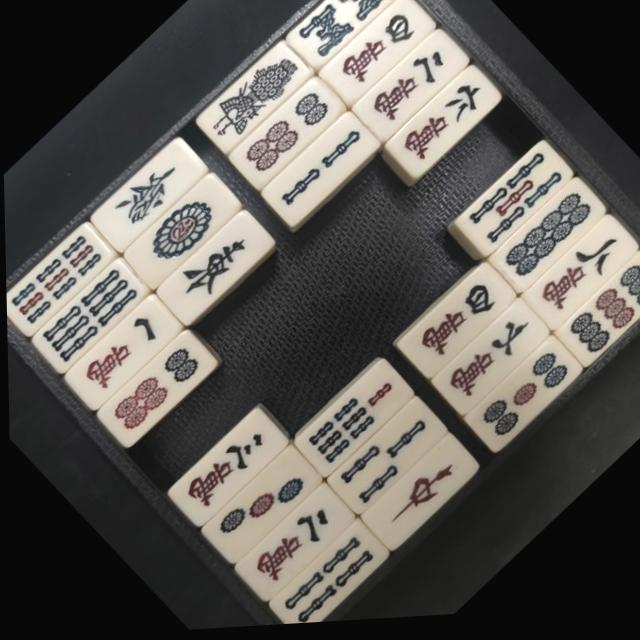hdg: (92, 144, 201, 250)
hdr: (361, 443, 474, 552)
hwe: (156, 215, 269, 325)
sb1: (195, 45, 309, 157)
sb2: (262, 117, 377, 228)
sb3: (328, 404, 443, 517)
sb4: (270, 531, 382, 628)
sb5: (456, 148, 571, 259)
sb6: (33, 262, 144, 370)
sb7: (295, 368, 409, 479)
sb8: (286, 0, 404, 75)
sb9: (4, 226, 109, 333)
sc1: (65, 300, 176, 408)
sc2: (235, 490, 350, 602), (357, 35, 467, 142)
sc3: (171, 415, 284, 525)
sc4: (322, 0, 434, 108), (400, 273, 510, 381)
sc6: (386, 72, 499, 182)
sc7: (433, 307, 547, 418)
sc8: (523, 226, 635, 334)
sd1: (124, 177, 237, 287)
sd3: (203, 451, 319, 563)
sd5: (465, 346, 579, 456)
sd6: (231, 84, 342, 191), (99, 337, 208, 444)
sd8: (491, 188, 602, 296)
sd9: (556, 263, 640, 372)
